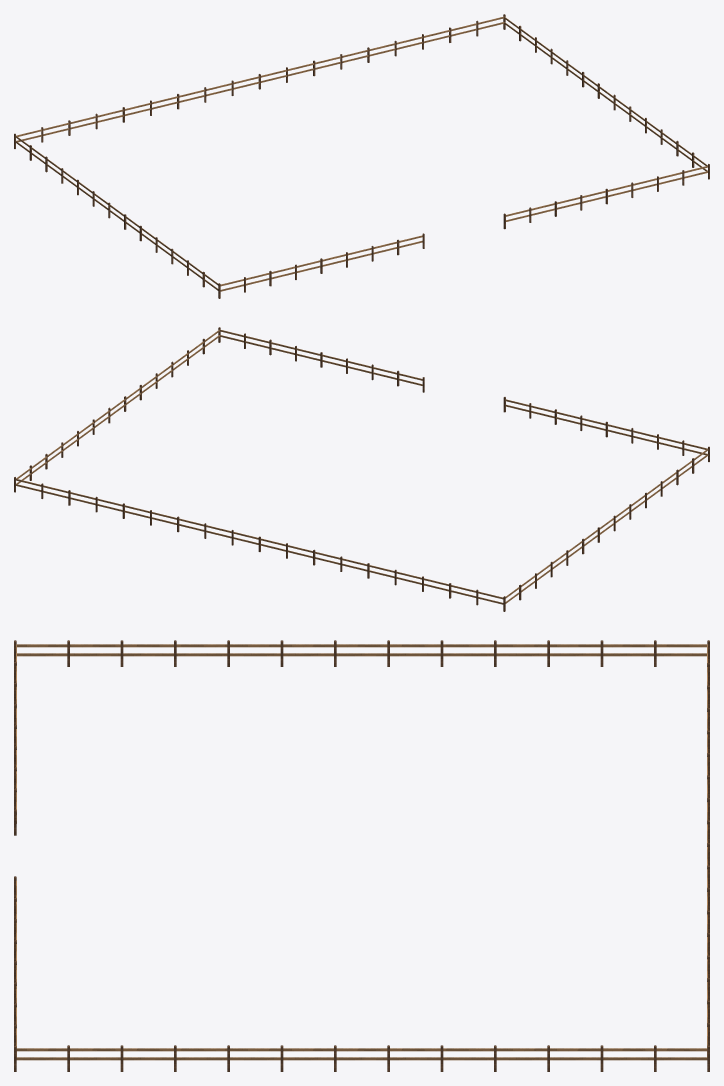
File: fence.glb
3 renders of one model, top to bottom at view 1: azimuth 30°, elevation 25°; view 2: azimuth 150°, elevation 25°; view 3: azimuth 270°, elevation 25°, orthographic. The views are drawn at different scales.
Parts seen in each view (by area): view 1: fence_wood, fence_dkwood; view 2: fence_wood, fence_dkwood; view 3: fence_wood, fence_dkwood.
Part boxes in pixels (x1,y1,x2,y2): fence_wood: (15,16,707,291); fence_dkwood: (14,14,709,298); fence_wood: (16,329,708,604); fence_dkwood: (14,327,709,611); fence_wood: (16,644,707,1060); fence_dkwood: (14,640,709,1071).
Size of the model in its own units: 43.52 by 1.31 by 31.52.
2 materials, 2 textured.
